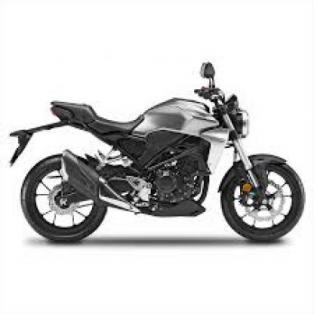Motocicleta: (13, 61, 306, 245)
